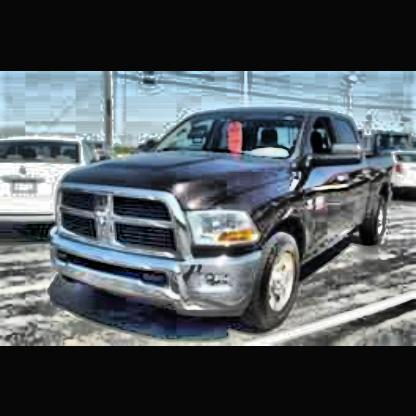Dodge Ram Pickup 3500 Crew Cab 2010: (49, 111, 397, 334)
